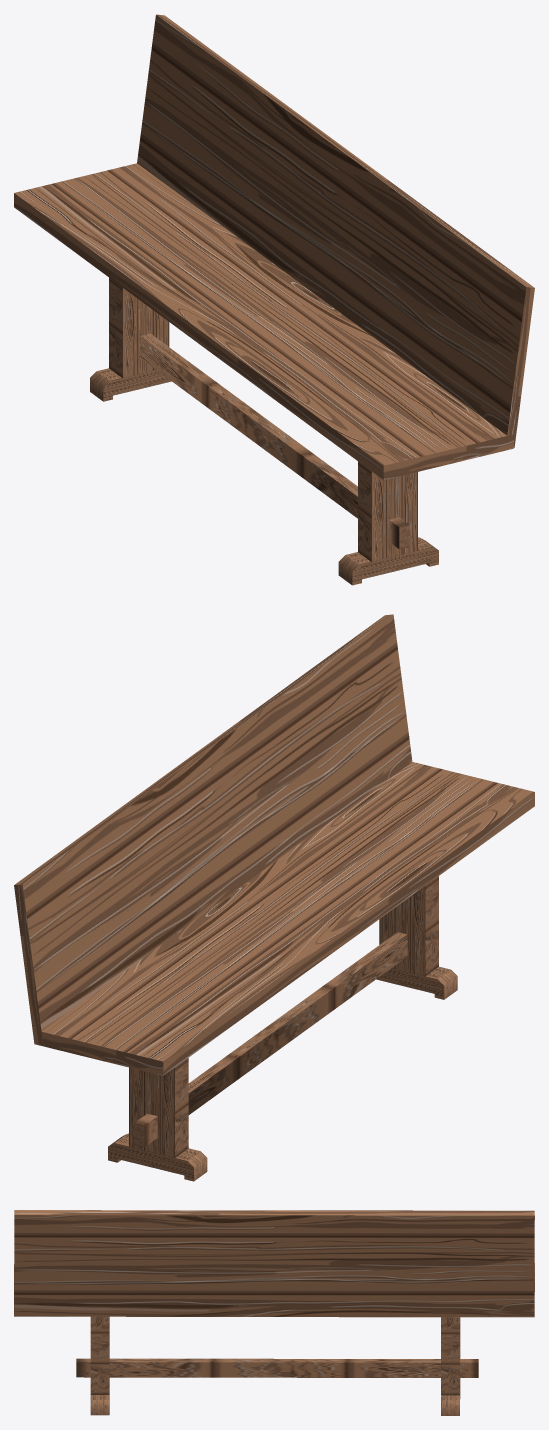
Rendered from BenchWithBack.fbx.
3 views of the same model, one above another, from view 1: azimuth 30°, elevation 25°; view 2: azimuth 150°, elevation 25°; view 3: azimuth 270°, elevation 25° (orthographic). The views are drawn at different scales.
Parts seen in each view (by area): view 1: bench 2 Top; view 2: bench 2 Top; view 3: bench 2 Top.
Part boxes in pixels (x1,y1,x2,y2): bench 2 Top: (14,14,534,585); bench 2 Top: (14,614,534,1181); bench 2 Top: (14,1210,534,1415).
Bounding box in the file's own units: 26.11 × 110 × 50.46.
Materials: 2 (2 with a texture image).
